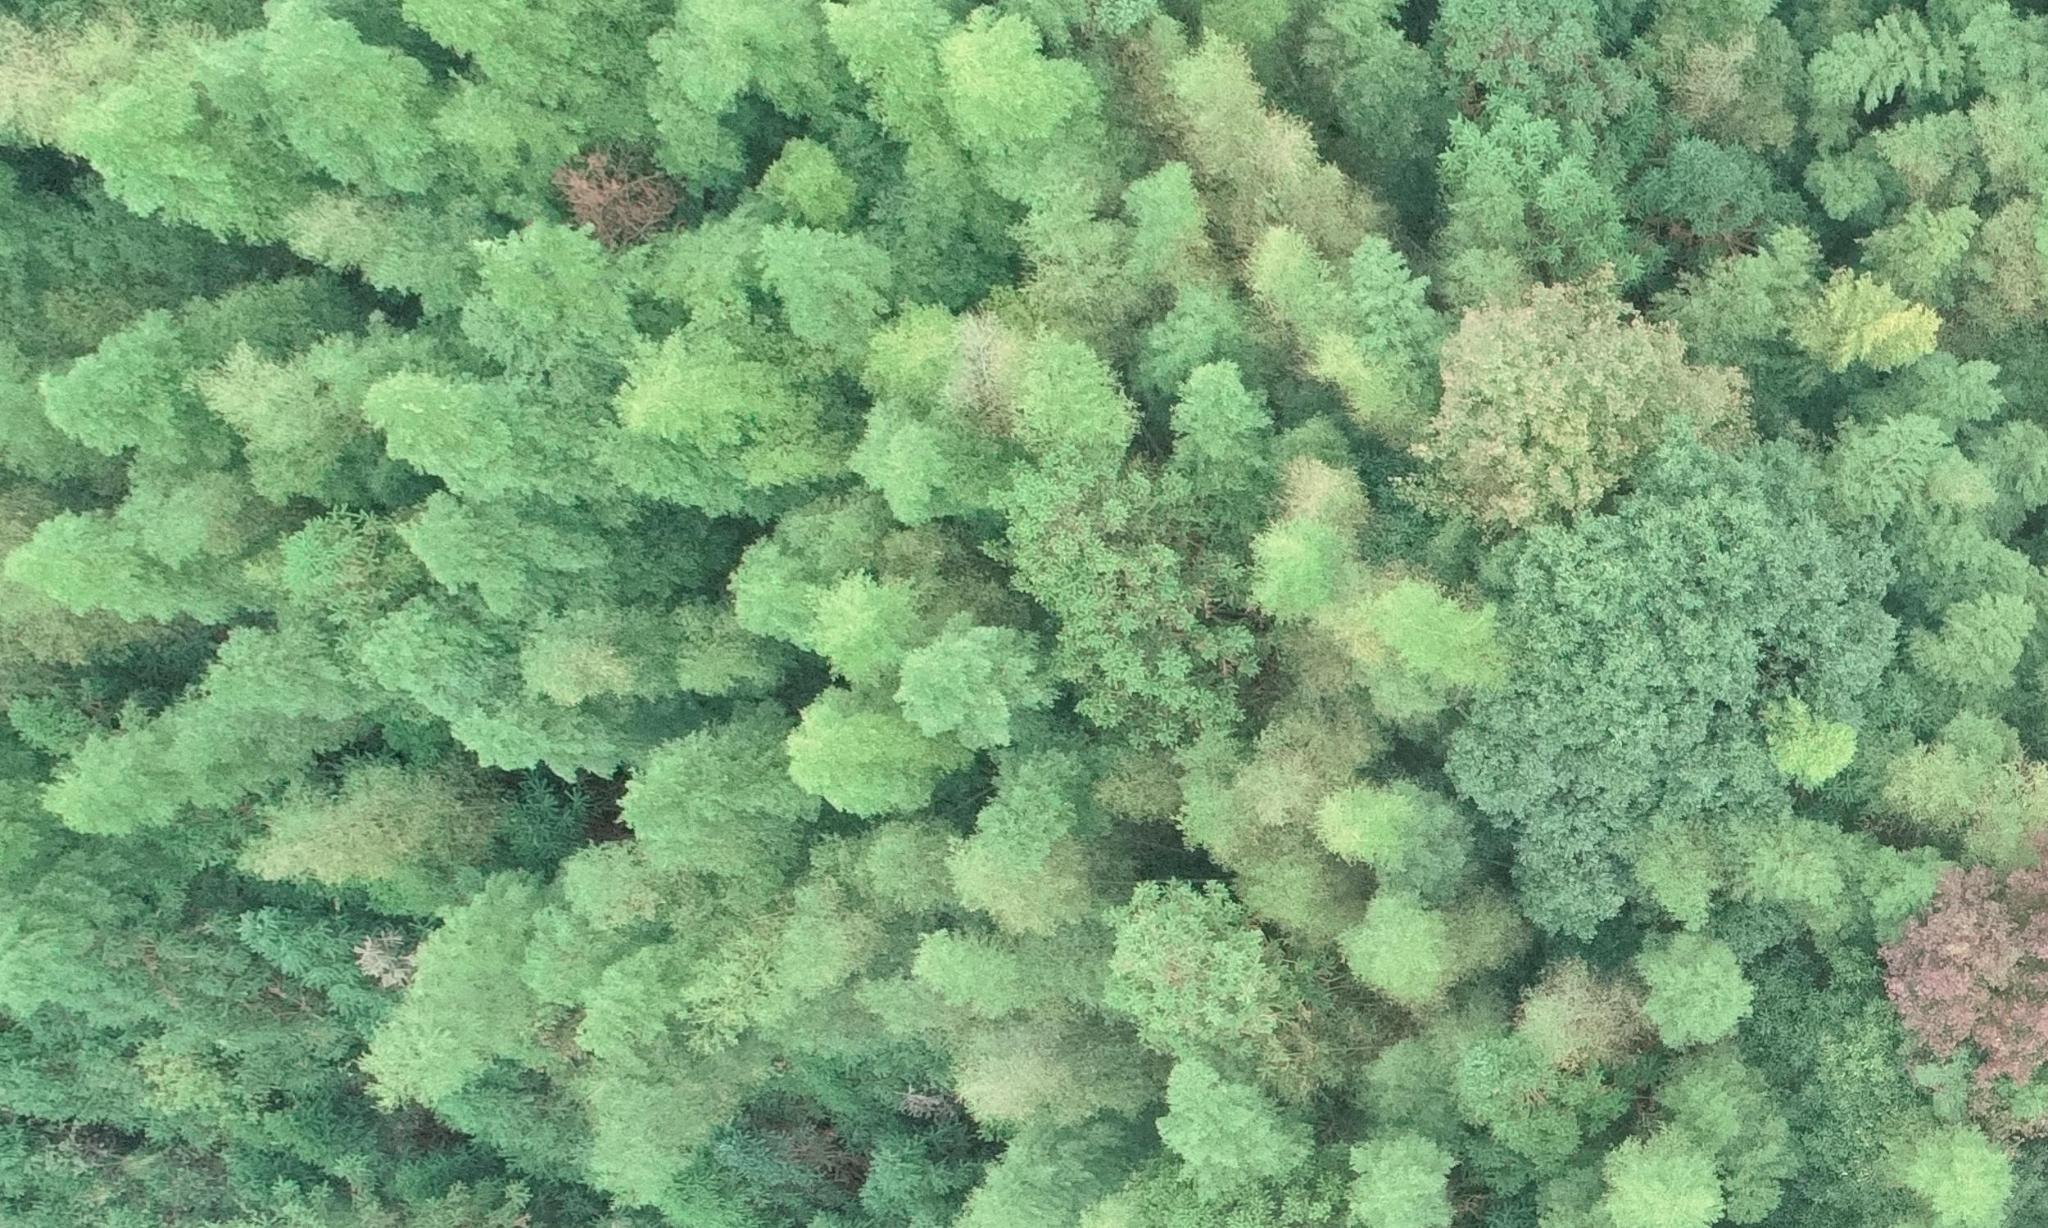heavy: (1884, 849, 2029, 1107), (547, 145, 693, 262)
